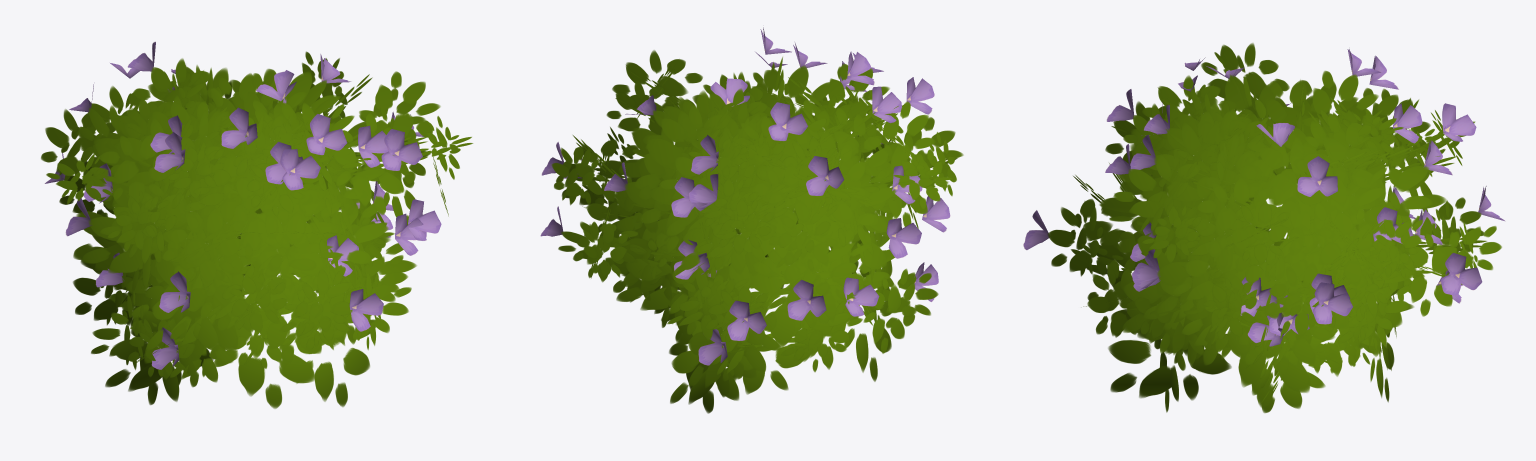
The model's file is bush.glb.
The picture shows the model from 3 angles, left to right: view 1: azimuth 30°, elevation 25°; view 2: azimuth 150°, elevation 25°; view 3: azimuth 270°, elevation 25°; orthographic projection. The views are drawn at different scales.
Visible parts, largest first — view 1: Bush_Common_Flowers; view 2: Bush_Common_Flowers; view 3: Bush_Common_Flowers.
Part boxes in pixels (bbox=[...]): Bush_Common_Flowers: bbox=[41, 41, 473, 408]; Bush_Common_Flowers: bbox=[540, 27, 963, 413]; Bush_Common_Flowers: bbox=[1023, 43, 1504, 412].
Bounding box in the file's own units: 1.91 × 1.58 × 1.97.
2 materials, 2 textured.
